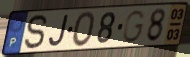8: (145, 7, 167, 43), (96, 11, 116, 46)
G: (121, 9, 147, 44)
J: (47, 13, 70, 48)
O: (71, 10, 97, 49)
S: (23, 13, 49, 52)
